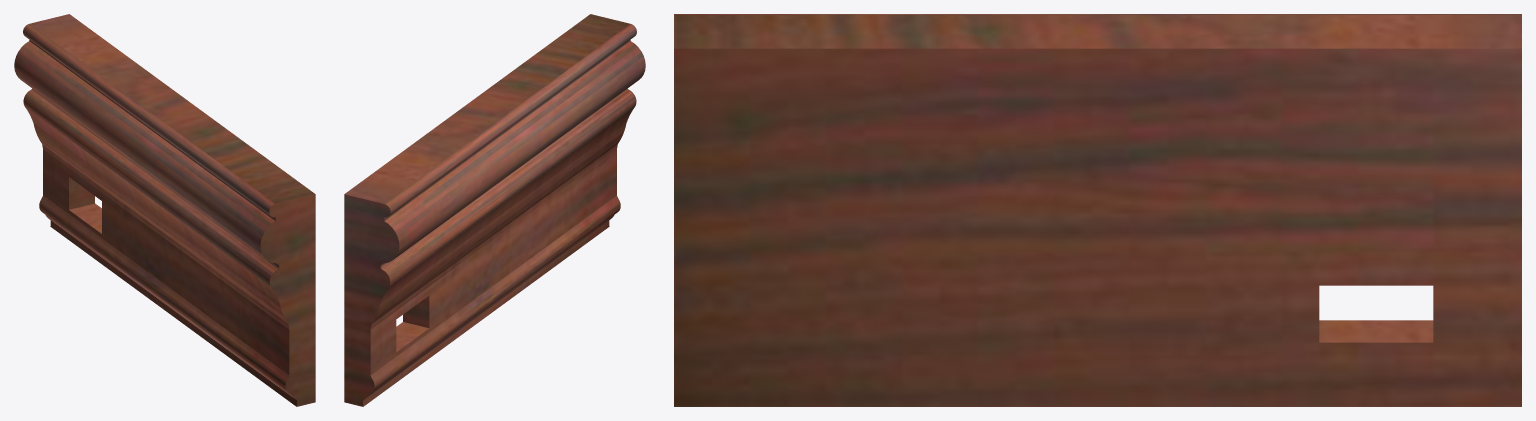
Rendered from phaogo.dae.
3 views of the same model, side by side, from view 1: azimuth 30°, elevation 25°; view 2: azimuth 150°, elevation 25°; view 3: azimuth 270°, elevation 25° (orthographic). The views are drawn at different scales.
Visible parts, largest first — view 1: Difference (×2); view 2: Difference (×2); view 3: Difference (×2).
Part boxes in pixels (x1,y1,x2,y2): Difference (×2): (14, 14, 315, 406); Difference (×2): (344, 14, 645, 406); Difference (×2): (674, 14, 1521, 406).
Size of the model in its own units: 8 by 61.81 by 28.81.
Materials: 1 (1 with a texture image).
